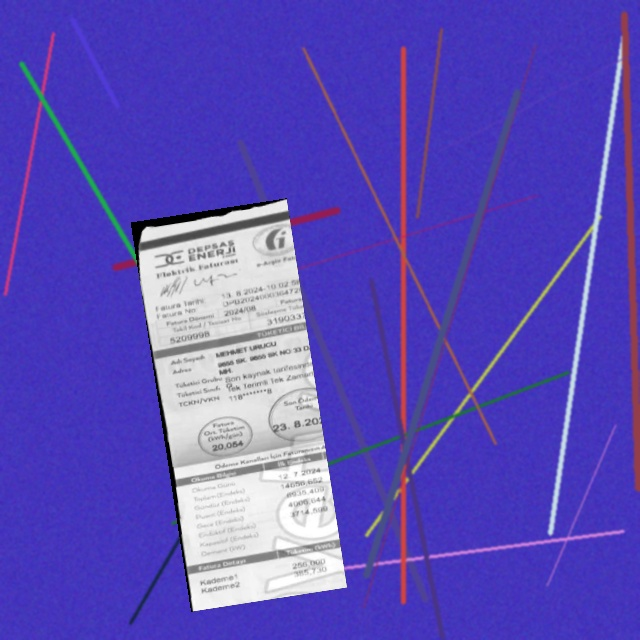electricity-bill: (130, 197, 346, 611)
